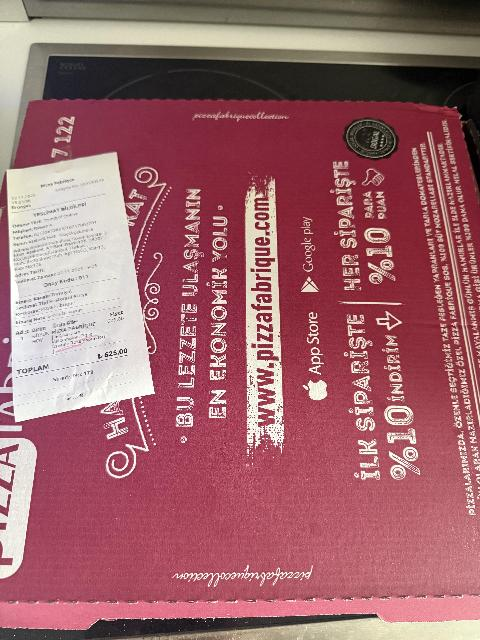Kagit: (0, 113, 467, 630), (4, 154, 143, 410)
